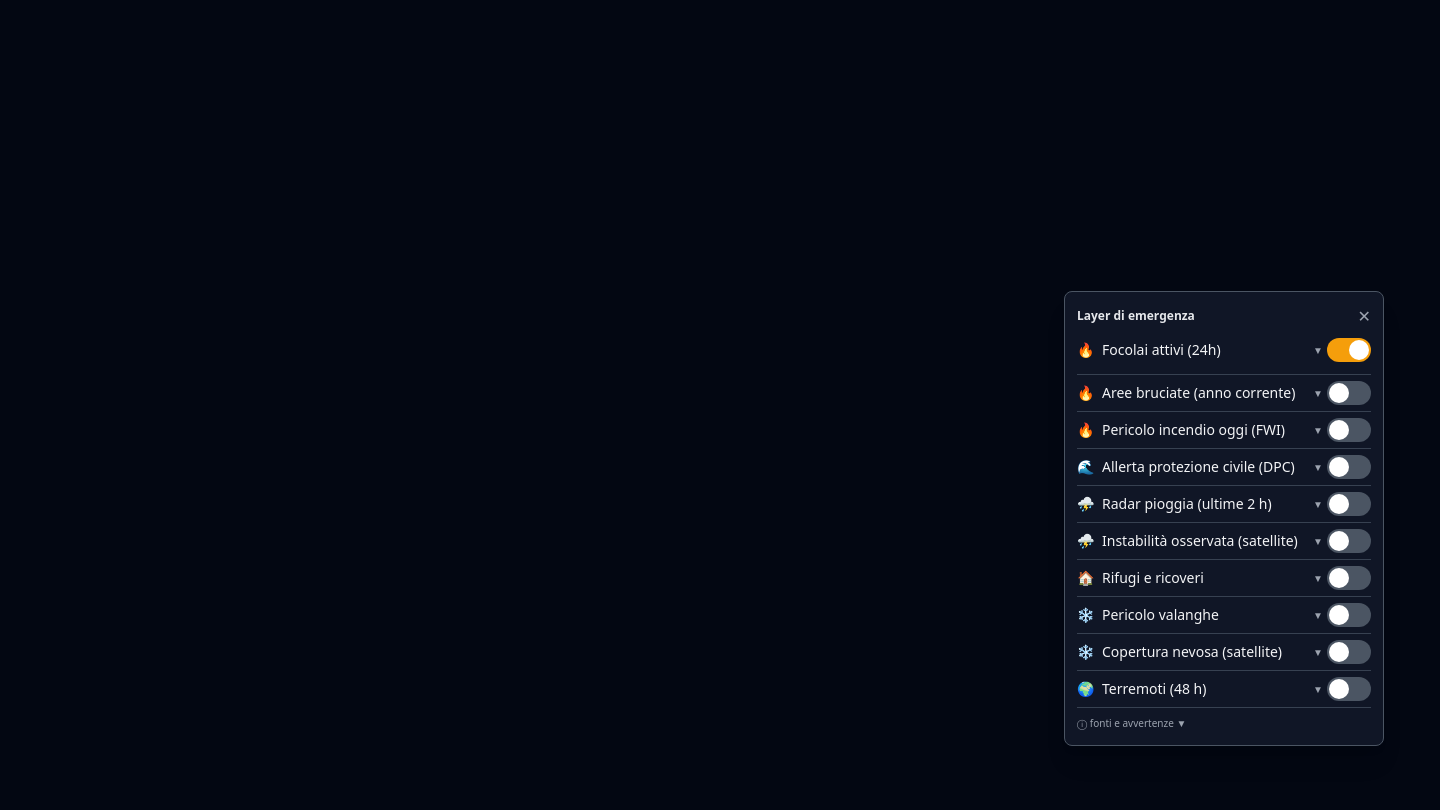
pannello layer compatto › toccando la riga si apre il dettaglio con legenda e descrizione
Click the button "🔥 Focolai attivi (24h) ▼".
click(1200, 350)  # box [1077,332,1323,368]
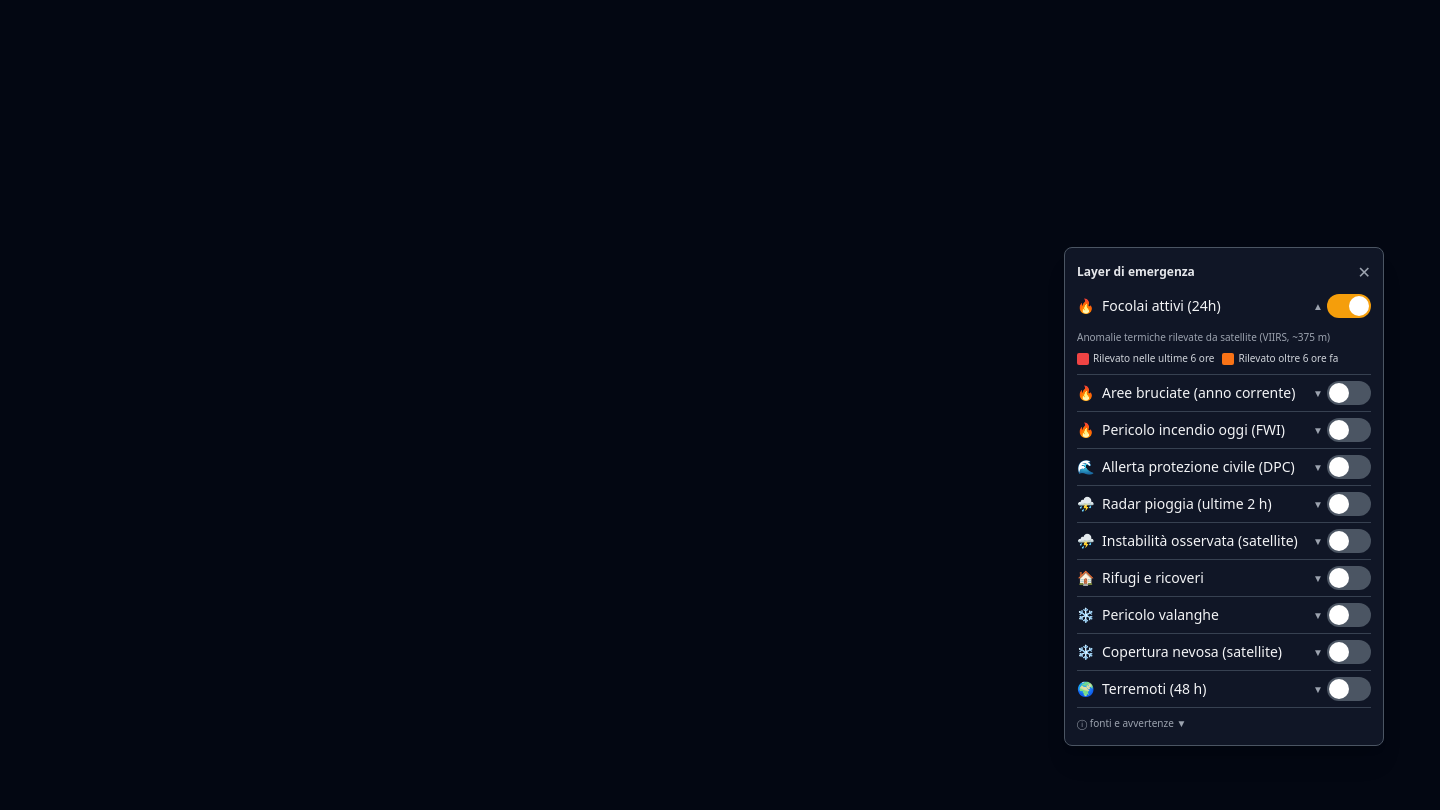
expect the text "Rilevato nelle ultime 6 ore" is shown: met, box [1077,351,1214,366]
expect the text "Anomalie termiche rilevate da satellite (VIIRS, ~375 m)" is shown: met, box [1077,330,1371,345]
